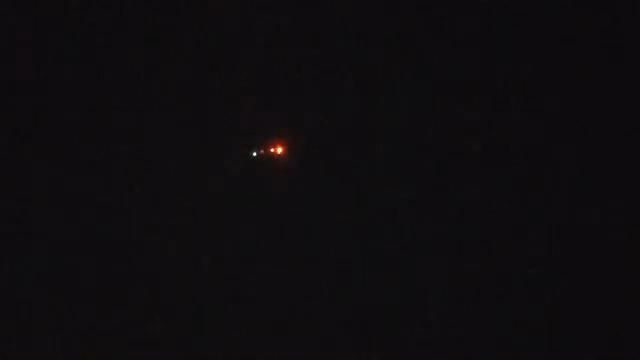Plane: (230, 136, 313, 167)
